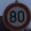Speed Limit -80-: (0, 1, 30, 30)
